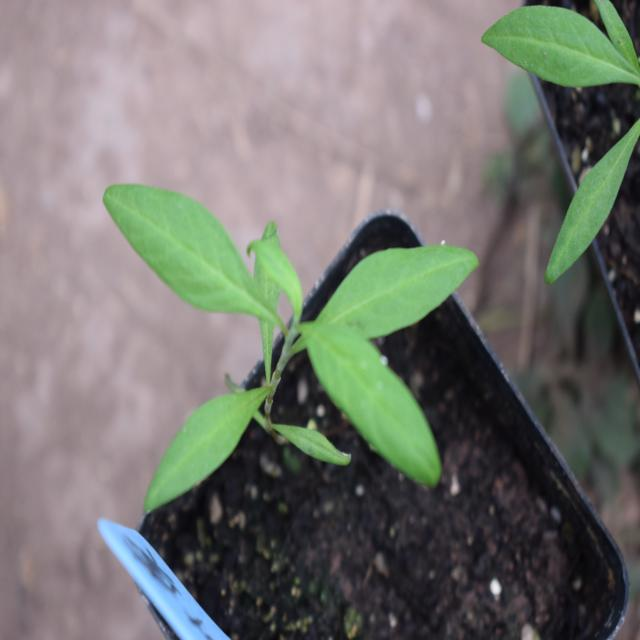white_smart_weed: (92, 162, 478, 535)
